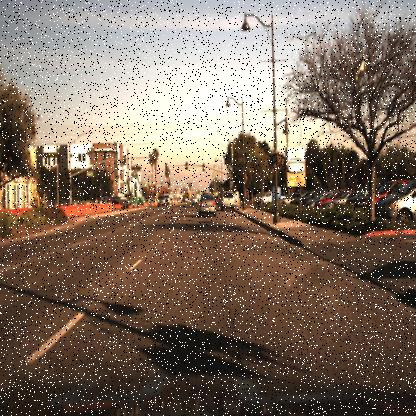car: (196, 192, 218, 219), (218, 190, 238, 212), (220, 188, 237, 212), (254, 192, 278, 204), (273, 194, 291, 209), (322, 198, 337, 212), (346, 195, 358, 210), (303, 197, 315, 209), (293, 196, 303, 210), (313, 198, 323, 212)
trafficLight-Yellow: (183, 159, 191, 172)
